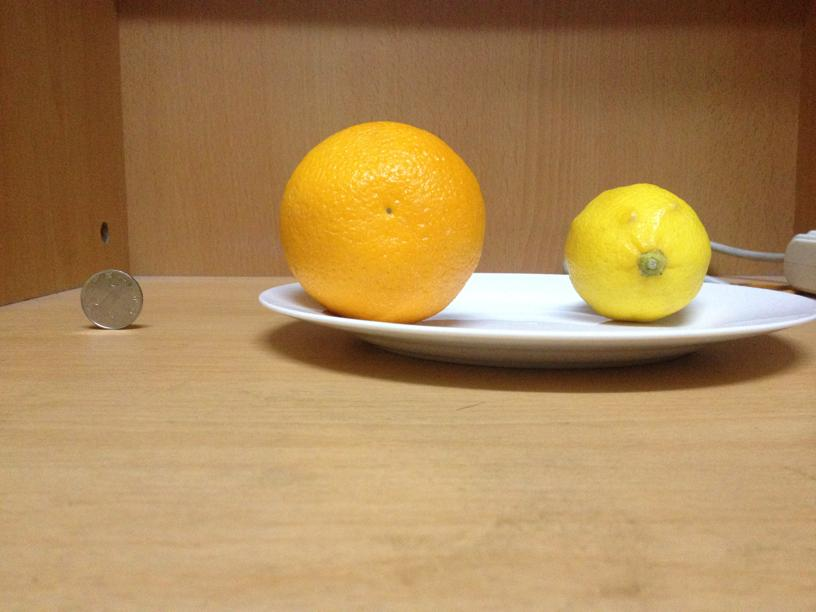coin: (80, 266, 143, 328)
lemon: (562, 177, 713, 319)
orange: (278, 120, 485, 322)
